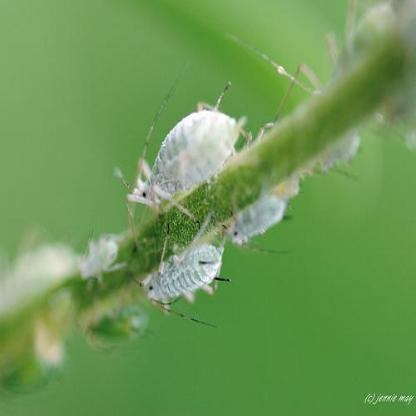aphid: (117, 88, 253, 213), (285, 0, 406, 93), (142, 226, 230, 312), (222, 188, 290, 245), (75, 221, 135, 284)
